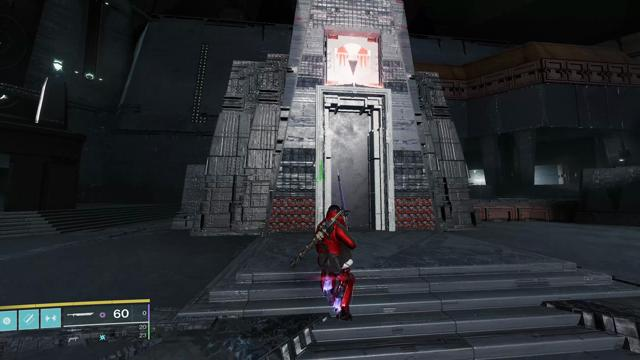give: (334, 43, 371, 79)
